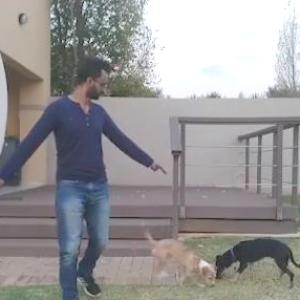land: (1, 36, 192, 299)
